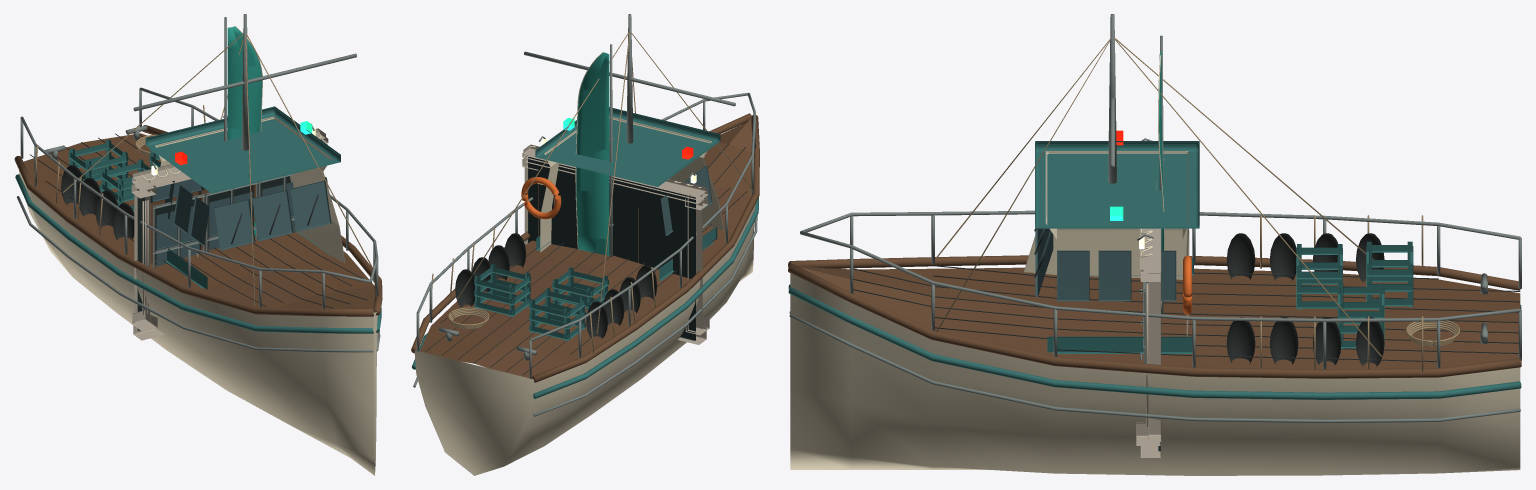
File: detail-kit.glb
3 renders of one model, left to right at view 1: azimuth 30°, elevation 25°; view 2: azimuth 150°, elevation 25°; view 3: azimuth 270°, elevation 25°, orthographic. The views are drawn at different scales.
Parts seen in each view (by area): view 1: launch_far__cream, launch_far__timber, launch_near__teal, launch_far__teal, launch_near__metal, launch_near__glass, launch_far__glass, launch_near__timber, launch_near__rubber, launch_far__metal, gate_far__fabric, frontage_far__glass (+10 smaller); view 2: launch_far__cream, launch_far__timber, launch_near__teal, frontage_far__interior, launch_near__rubber, launch_near__metal, launch_near__timber, gate_near__fabric, launch_far__teal, gate_far__fabric, launch_near__rope, frontage_far__stone (+6 smaller); view 3: launch_far__cream, launch_far__timber, launch_near__teal, launch_near__rubber, launch_far__teal, launch_near__timber, launch_near__metal, launch_far__metal, launch_far__glass, launch_near__rope, launch_near__glass, frontage_far__stone (+2 smaller).
Part boxes in pixels (x1=…): launch_far__cream: x1=19, y1=116, x2=378, y2=475; launch_far__timber: x1=16, y1=127, x2=380, y2=316; launch_near__teal: x1=15, y1=108, x2=381, y2=333; launch_far__teal: x1=16, y1=106, x2=380, y2=333; launch_near__metal: x1=16, y1=14, x2=380, y2=352; launch_near__glass: x1=164, y1=177, x2=330, y2=250; launch_far__glass: x1=167, y1=177, x2=331, y2=250; launch_near__timber: x1=14, y1=125, x2=382, y2=316; launch_near__rubber: x1=30, y1=133, x2=367, y2=308; launch_far__metal: x1=17, y1=14, x2=379, y2=352; gate_far__fabric: x1=227, y1=26, x2=261, y2=134; frontage_far__glass: x1=152, y1=179, x2=295, y2=265; launch_far__cream: x1=414, y1=116, x2=755, y2=475; launch_far__timber: x1=411, y1=114, x2=758, y2=382; launch_near__teal: x1=412, y1=108, x2=758, y2=398; frontage_far__interior: x1=528, y1=157, x2=695, y2=340; launch_near__rubber: x1=425, y1=143, x2=746, y2=375; launch_near__metal: x1=413, y1=14, x2=757, y2=416; launch_near__timber: x1=411, y1=113, x2=759, y2=382; gate_near__fabric: x1=576, y1=52, x2=609, y2=255; launch_far__teal: x1=412, y1=107, x2=757, y2=398; gate_far__fabric: x1=576, y1=52, x2=609, y2=252; launch_near__rope: x1=429, y1=33, x2=755, y2=353; frontage_far__stone: x1=522, y1=144, x2=709, y2=344; launch_far__cream: x1=790, y1=151, x2=1520, y2=475; launch_far__timber: x1=789, y1=257, x2=1521, y2=378; launch_near__teal: x1=788, y1=142, x2=1521, y2=399; launch_near__rubber: x1=853, y1=228, x2=1520, y2=366; launch_far__teal: x1=788, y1=141, x2=1521, y2=399; launch_near__timber: x1=788, y1=255, x2=1521, y2=378; launch_near__metal: x1=789, y1=14, x2=1520, y2=422; launch_far__metal: x1=789, y1=14, x2=1521, y2=423; launch_far__glass: x1=1035, y1=228, x2=1176, y2=301; launch_near__rope: x1=936, y1=38, x2=1460, y2=371; launch_near__glass: x1=1035, y1=228, x2=1176, y2=300; frontage_far__stone: x1=1136, y1=228, x2=1161, y2=457.
Bounding box in the file's own units: 3.9 × 6.16 × 9.
